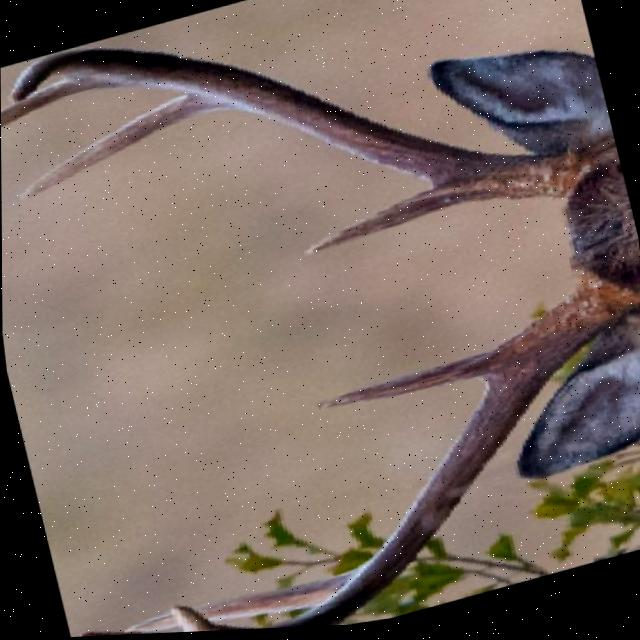L-F: (167, 275, 640, 634)
L-G1: (312, 353, 497, 411)
R-F: (8, 46, 584, 204)
R-G1: (304, 190, 469, 256)
R-G2: (16, 93, 226, 199)
R-G3: (1, 77, 114, 126)
